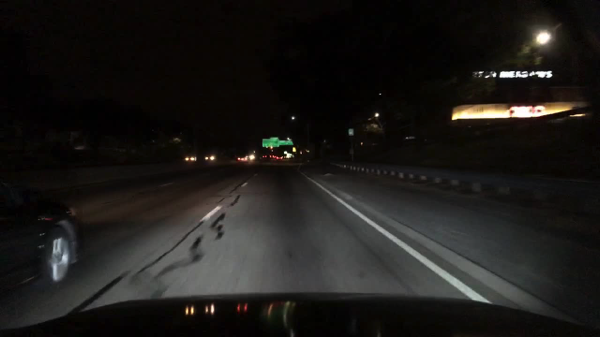car: (0, 177, 85, 285), (183, 152, 200, 164), (204, 151, 220, 162), (236, 154, 250, 163), (275, 154, 283, 162), (261, 154, 269, 160)
traffic sign: (262, 139, 279, 147), (279, 140, 293, 145), (269, 137, 279, 141), (291, 146, 296, 153), (349, 128, 353, 136)
